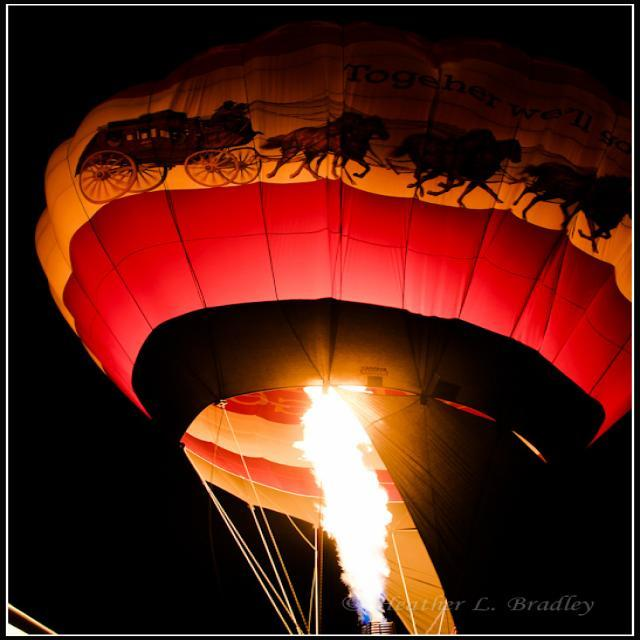Fire: (297, 382, 414, 620)
